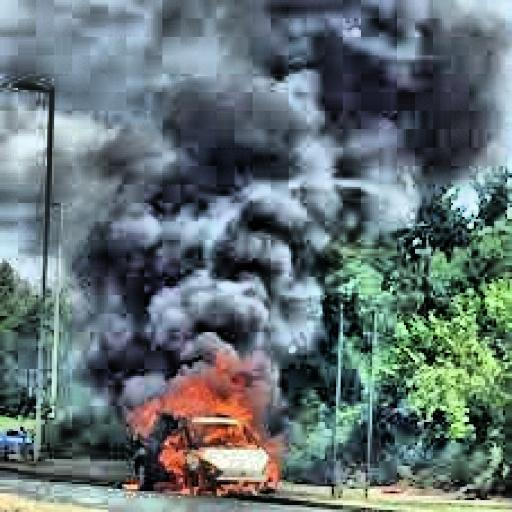fire: (124, 353, 287, 500)
